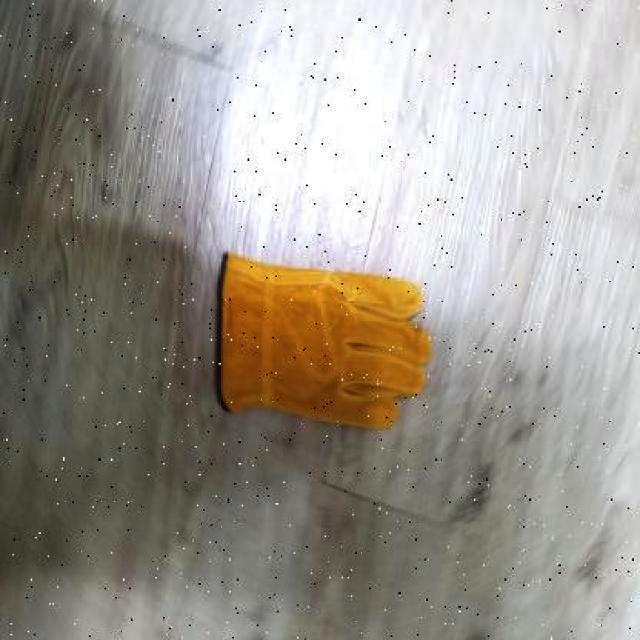Gloves: (215, 249, 433, 432)
